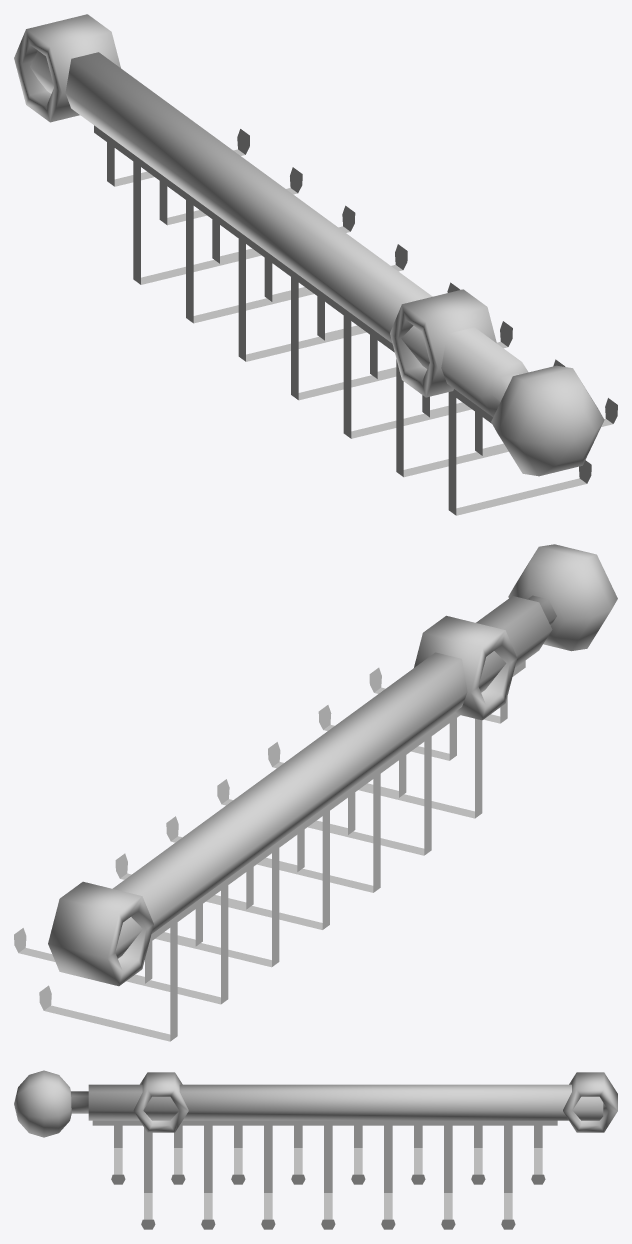
3 renders of one model, top to bottom at view 1: azimuth 30°, elevation 25°; view 2: azimuth 150°, elevation 25°; view 3: azimuth 270°, elevation 25°, orthographic. The views are drawn at different scales.
Visible parts, largest first — view 1: Cylinder.006; view 2: Cylinder.006; view 3: Cylinder.006.
Boxes of the visible parts, <box> form: Cylinder.006: <box>14,14,617,515</box>; Cylinder.006: <box>14,544,617,1041</box>; Cylinder.006: <box>14,1070,617,1229</box>.
Size of the model in its own units: 3.22 by 3.49 by 16.34.
1 material, 1 textured.
